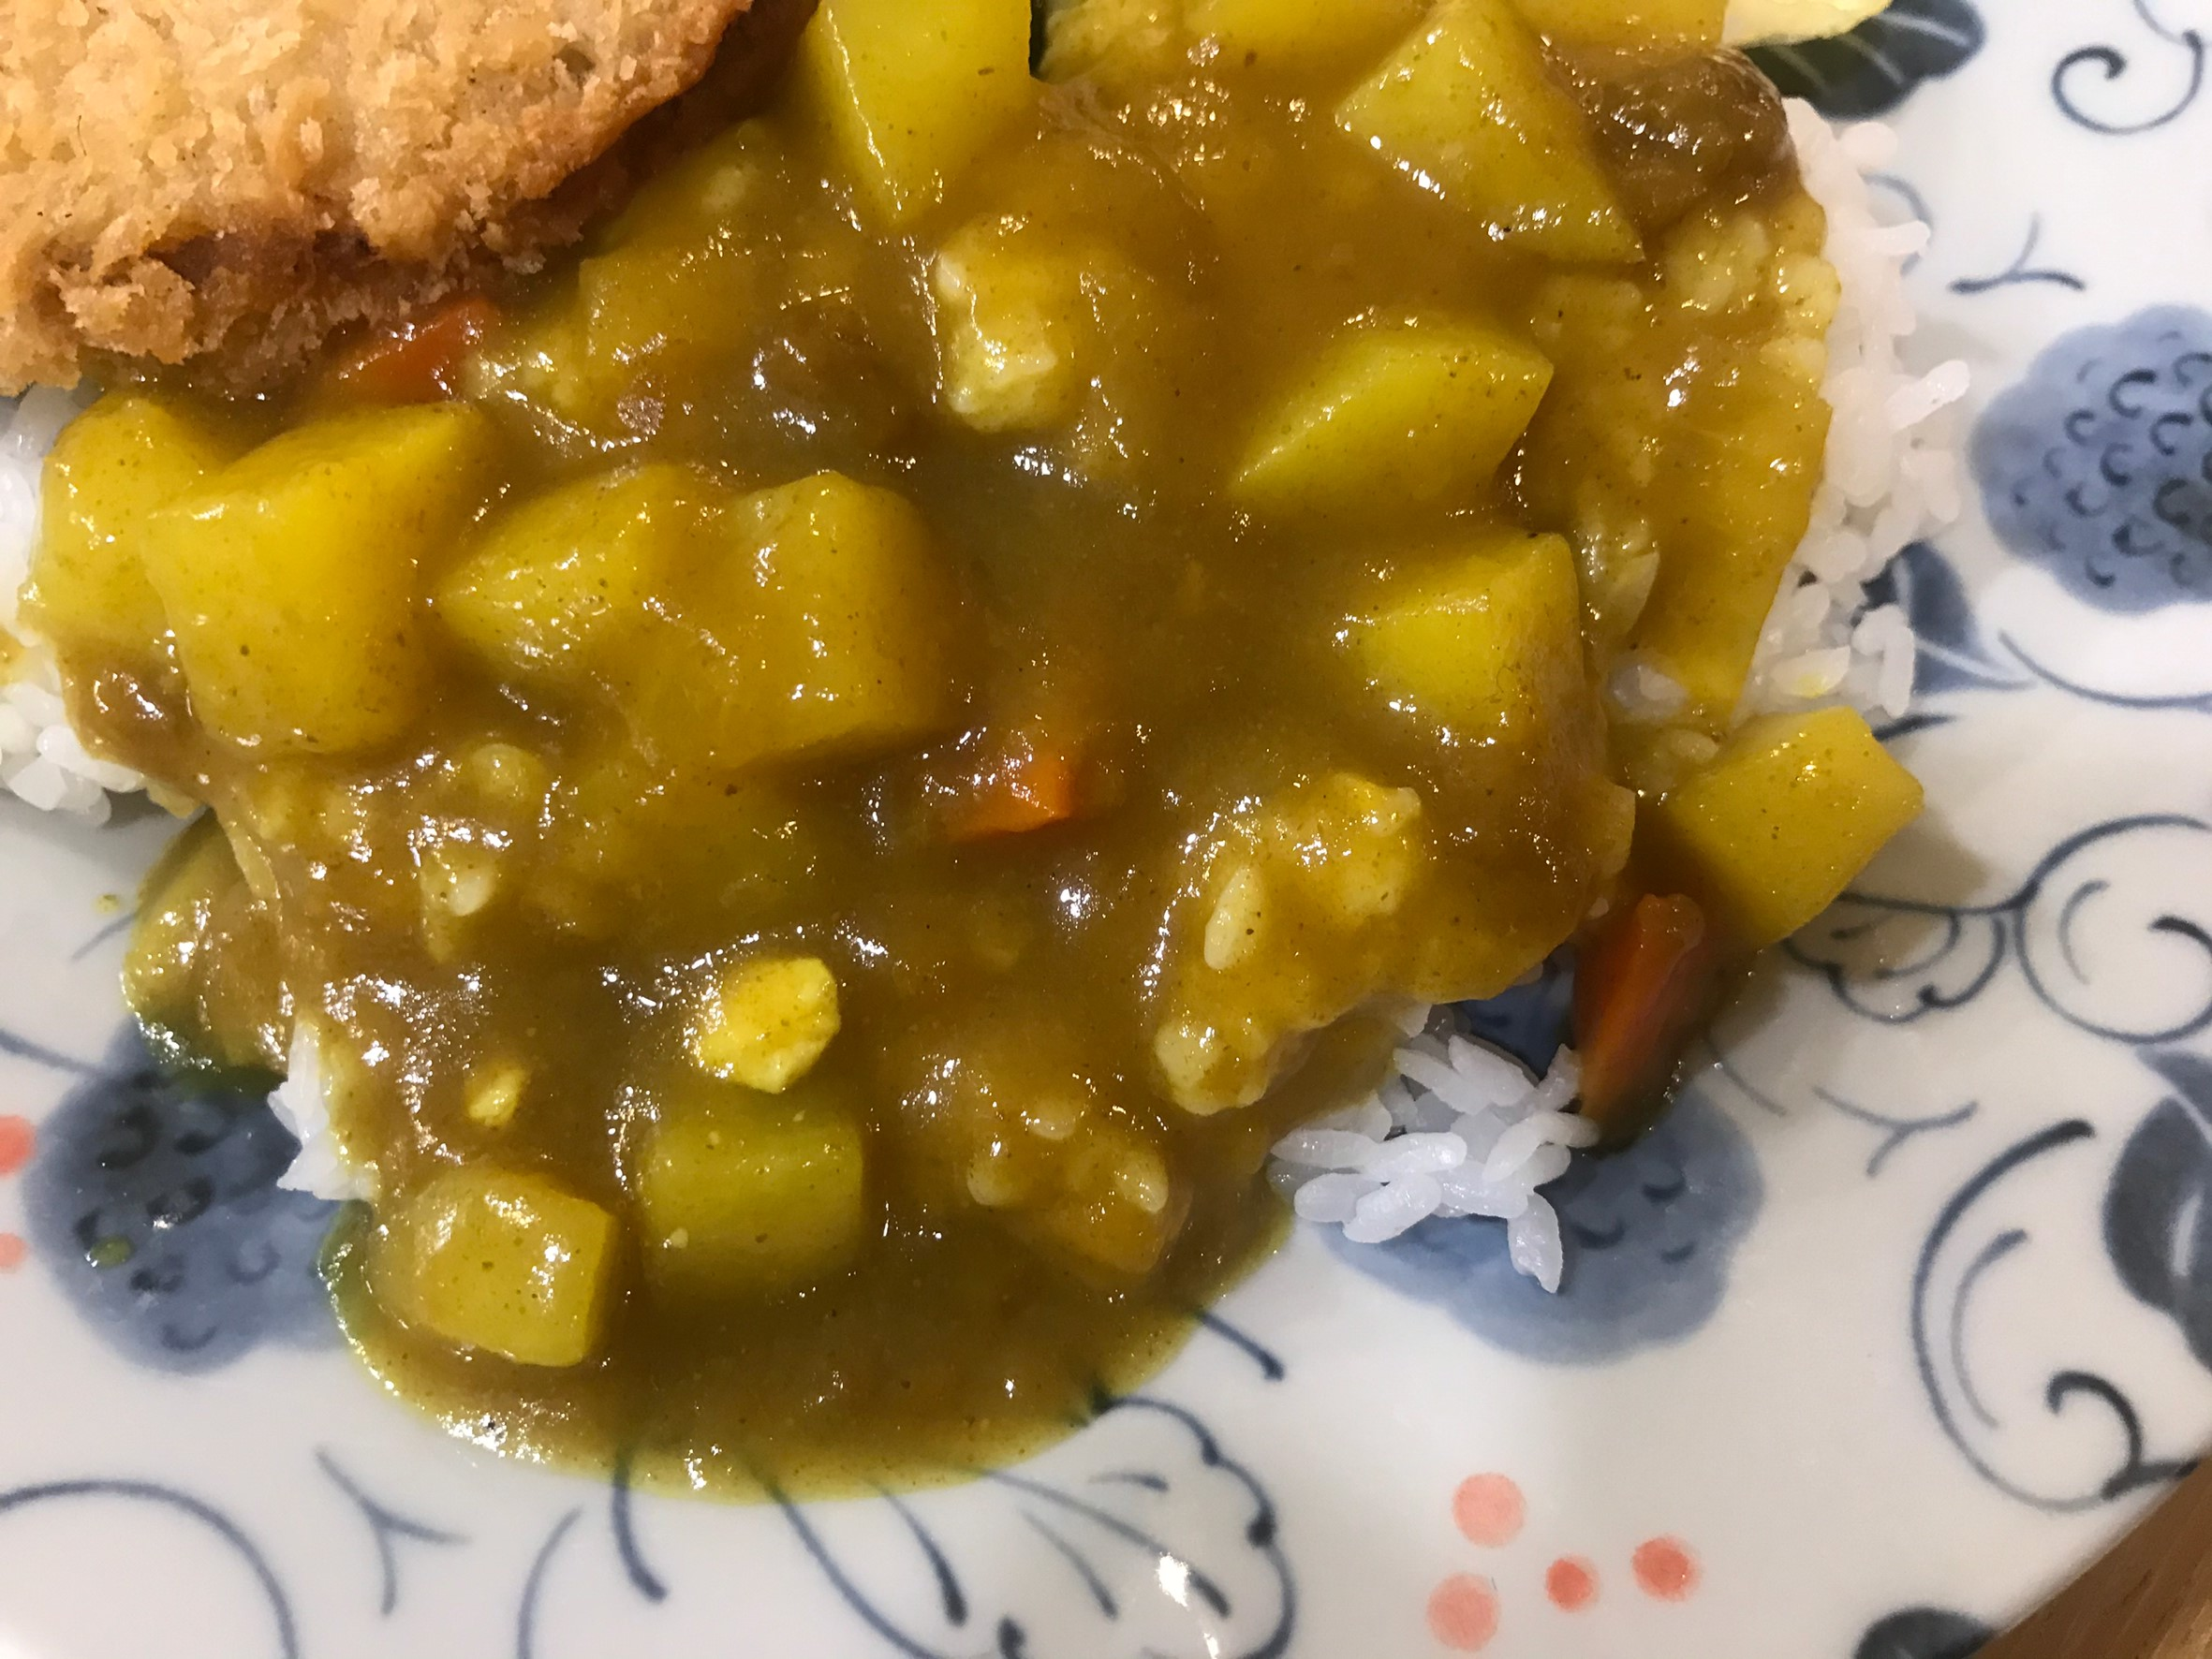curry: (35, 2, 1829, 1443)
